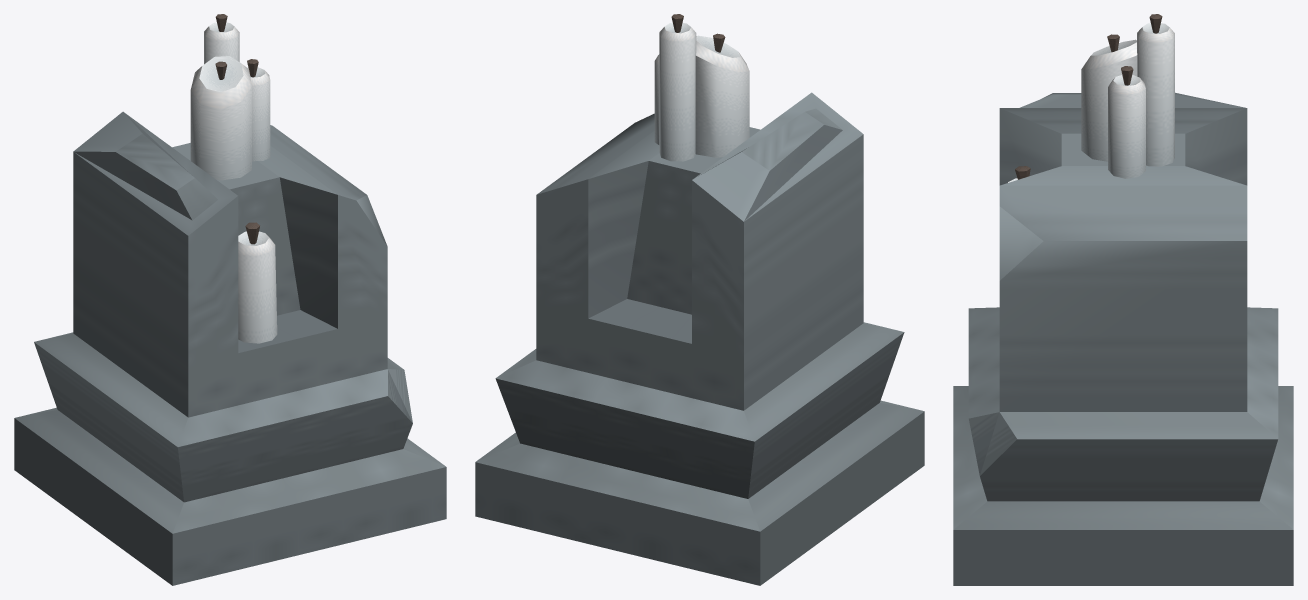
Rendered from shrine-candles.glb.
3 renders of one model, left to right at view 1: azimuth 30°, elevation 25°; view 2: azimuth 150°, elevation 25°; view 3: azimuth 270°, elevation 25°, orthographic. The views are drawn at different scales.
Visible parts, largest first — view 1: shrine_candles; view 2: shrine_candles; view 3: shrine_candles.
Boxes of the visible parts, bbox=[...] form: shrine_candles: bbox=[14, 14, 446, 585]; shrine_candles: bbox=[475, 14, 924, 585]; shrine_candles: bbox=[953, 14, 1293, 585].
Bounding box in the file's own units: 1.1 × 1.79 × 1.1.
1 material, 1 textured.
